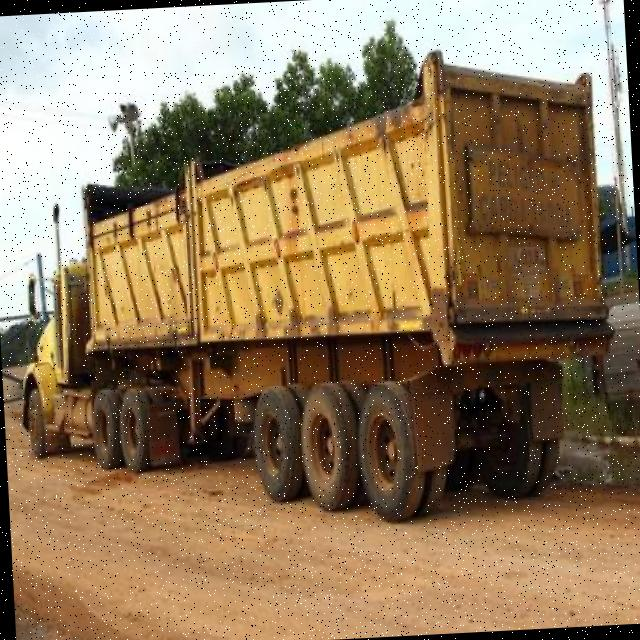Dump Truck: (0, 35, 623, 549)
